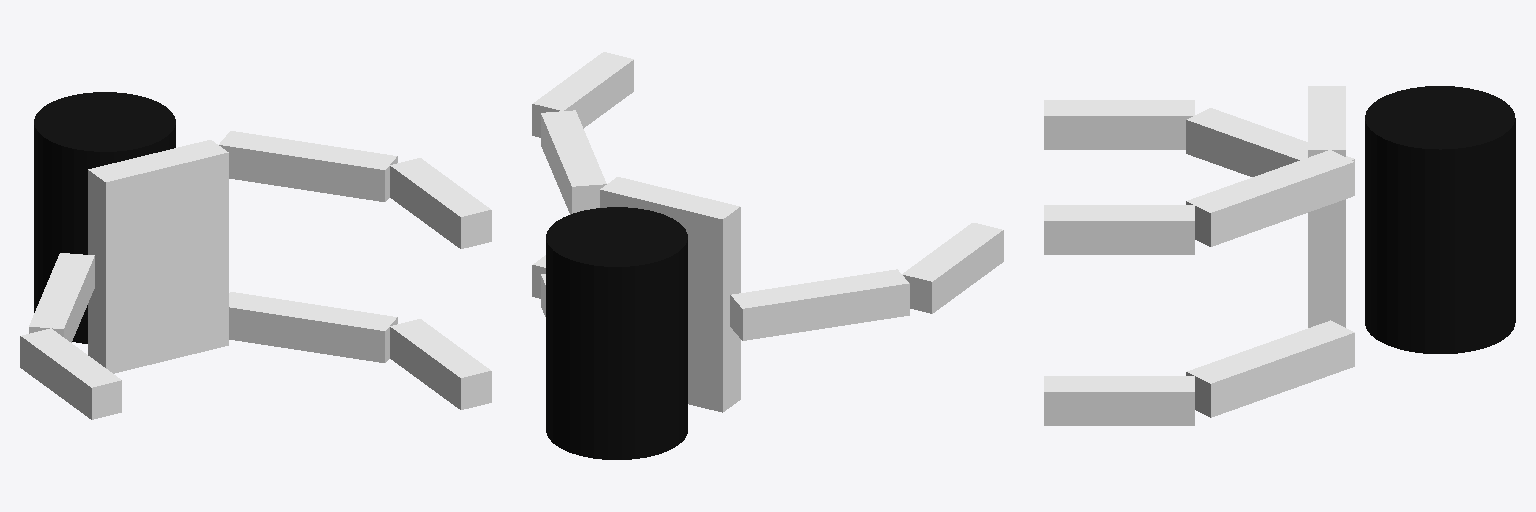
robot.urdf — test_ee_spread:
<?xml version="1.0"?>
<robot name="test_ee_spread">

  <link name="world"/>
    <joint name="virtualFixed" type="fixed">
    <parent link="world"/>
    <child link="motor"/>
  </joint>
  
  <link name="motor">
  <inertial>
    <mass value="1"/>
    <inertia ixx="100" ixy="0" ixz="0" iyy="100" iyz="0" izz="100" />
    <origin/>
  </inertial>
    <visual>
      <geometry>
        <cylinder length="0.6" radius=".2"/>
      </geometry>
      <material name="black">

      <color rgba=".1 .1 .1 1"/>
      </material>
    </visual>
  <collision>
    <origin xyz="0 0 0"/>
    <geometry>
      <cylinder length="0.6" radius=".2"/>
    </geometry>
    <contact_coefficients mu="0" kp="1000.0" kd="1.0"/>
  </collision>
  </link>

  <link name="base">
  <inertial>
    <mass value="1"/>
    <inertia ixx="100" ixy="0" ixz="0" iyy="100" iyz="0" izz="100" />
    <origin/>
  </inertial>
    <visual>
      <geometry>
        <box size="0.4 .1 .6"/>
      </geometry>
      <origin rpy="0 0 0" xyz="0 -0.15 0"/>
      <material name="white">
        <color rgba="1 1 1 1"/>
      </material>
    </visual>
  <collision>
      <origin rpy="0 0 0" xyz="0 -0.15 0"/>
    <geometry>
        <box size="0.4 .1 .6"/>
    </geometry>
    <contact_coefficients mu="0" kp="1000.0" kd="1.0"/>
  </collision>
  </link>

  <joint name="motor_to_base" type="fixed">
    <parent link="motor"/>
    <child link="base"/>
    <origin xyz="0 -0.15 0"/>
  </joint>

  <link name="virtual_left_for_spread">
  </link>
  
  <joint name="left_spread" type="revolute">
    <axis xyz="1 0 0"/>
    <limit effort="1000.0" lower="-0.3" upper="0.3" velocity="0.5"/>
    <parent link="base"/>
    <child link="virtual_left_for_spread"/>
    <origin xyz="0.1 0 0"/>
  </joint>
  

  <link name="left_finger">
  <inertial>
    <mass value="1"/>
    <inertia ixx="100" ixy="0" ixz="0" iyy="100" iyz="0" izz="100" />
    <origin/>
  </inertial>
    <visual>
      <geometry>
        <box size="0.1 .5 .1"/>
      </geometry>
      <origin rpy="0 0 -0.7" xyz="-0.4 -0.3 0"/>
      <material name="white">
        <color rgba="1 1 1 1"/>
      </material>
    </visual>
  <collision>
      <origin rpy="0 0 -0.7" xyz="-0.4 -0.3 0"/>
    <geometry>
        <box size="0.1 .5 .1"/>
    </geometry>
    <contact_coefficients mu="0" kp="1000.0" kd="1.0"/>
  </collision>
  </link>

  <joint name="base_to_left_finger" type="revolute">
    <axis xyz="0 0 1"/>
    <limit effort="1000.0" lower="0.0" upper="0.7" velocity="0.5"/>
    <parent link="virtual_left_for_spread"/>
    <child link="left_finger"/>
    <origin xyz="-0.1 0 0"/>
  </joint>
  
  <link name="virtual_right1_for_spread">
  </link>
  
  <joint name="right1_spread" type="revolute">
    <axis xyz="1 0 0"/>
    <limit effort="1000.0" lower="-0.25" upper="0.25" velocity="0.5"/>
    <parent link="base"/>
    <child link="virtual_right1_for_spread"/>
    <origin xyz="-0.1 0 0"/>
  </joint>

  <link name="right_finger1">
  <inertial>
    <mass value="1"/>
    <inertia ixx="100" ixy="0" ixz="0" iyy="100" iyz="0" izz="100" />
    <origin/>
  </inertial>
    <visual>
      <geometry>
        <box size="0.1 .5 .1"/>
      </geometry>
      <origin rpy="0 0 0.7" xyz="0.4 -0.3 0.25"/>
      <material name="white">
        <color rgba="1 1 1 1"/>
      </material>
    </visual>
  <collision>
      <origin rpy="0 0 0.7" xyz="0.4 -0.3 0.25"/>
    <geometry>
        <box size="0.1 .5 .1"/>
    </geometry>
    <contact_coefficients mu="0" kp="1000.0" kd="1.0"/>
  </collision>
  </link>

  <joint name="base_to_right_finger1" type="revolute">
    <axis xyz="0 0 1"/>
    <limit effort="1000.0" lower="-0.7" upper="0.0" velocity="0.5"/>
    <parent link="virtual_right1_for_spread"/>
    <child link="right_finger1"/>
    <origin xyz=".1 0 0"/>
  </joint>
  
  <link name="virtual_right2_for_spread">
  </link>
  
  <joint name="right2_spread" type="revolute">
    <axis xyz="1 0 0"/>
    <limit effort="1000.0" lower="-0.25" upper="0.25" velocity="0.5"/>
    <parent link="base"/>
    <child link="virtual_right2_for_spread"/>
    <origin xyz="-0.1 0 0"/>
  </joint>

  <link name="right_finger2">
  <inertial>
    <mass value="1"/>
    <inertia ixx="100" ixy="0" ixz="0" iyy="100" iyz="0" izz="100" />
    <origin/>
  </inertial>
    <visual>
      <geometry>
        <box size="0.1 .5 .1"/>
      </geometry>
      <origin rpy="0 0 0.7" xyz="0.4 -0.3 -0.25"/>
      <material name="white">
        <color rgba="1 1 1 1"/>
      </material>
    </visual>
  <collision>
      <origin rpy="0 0 0.7" xyz="0.4 -0.3 -0.25"/>
    <geometry>
        <box size="0.1 .5 .1"/>
    </geometry>
    <contact_coefficients mu="0" kp="1000.0" kd="1.0"/>
  </collision>
  </link>

  <joint name="base_to_right_finger2" type="revolute">
    <axis xyz="0 0 1"/>
    <limit effort="1000.0" lower="-0.7" upper="0.0" velocity="0.5"/>
    <parent link="virtual_right2_for_spread"/>
    <child link="right_finger2"/>
    <origin xyz=".1 0 0"/>
  </joint>

  <link name="left_fingertip">
  <inertial>
    <mass value="1"/>
    <inertia ixx="100" ixy="0" ixz="0" iyy="100" iyz="0" izz="100" />
    <origin/>
  </inertial>
    <visual>
      <geometry>
        <box size="0.1 .4 .1"/>
      </geometry>
      <origin rpy="0 0 0" xyz="0 -0.2 0"/>
      <material name="white">
        <color rgba="1 1 1 1"/>
      </material>
    </visual>
  <collision>
      <origin rpy="0 0 0" xyz="0 -0.2 0"/>
    <geometry>
        <box size="0.1 .4 .1"/>
    </geometry>
    <contact_coefficients mu="0" kp="1000.0" kd="1.0"/>
  </collision>
  </link>

  <joint name="left_finger_to_left_fingertip" type="revolute">
    <axis xyz="0 0 1"/>
    <limit effort="1.0" lower="0" upper="0.9" velocity="0.5"/>
    <parent link="left_finger"/>
    <child link="left_fingertip"/>
    <origin xyz="-0.6 -0.5 0"/>
  </joint>

  <link name="right_fingertip1">
  <inertial>
    <mass value="1"/>
    <inertia ixx="100" ixy="0" ixz="0" iyy="100" iyz="0" izz="100" />
    <origin/>
  </inertial>
    <visual>
      <geometry>
        <box size="0.1 .4 .1"/>
      </geometry>
      <origin rpy="0 0 0" xyz="0 -0.2 0"/>
      <material name="white">
        <color rgba="1 1 1 1"/>
      </material>
    </visual>
  <collision>
      <origin rpy="0 0 0" xyz="0 -0.2 0"/>
    <geometry>
        <box size="0.1 .4 .1"/>
    </geometry>
    <contact_coefficients mu="0" kp="1000.0" kd="1.0"/>
  </collision>
  </link>

  <joint name="right_finger1_to_right_fingertip1" type="revolute">
    <axis xyz="0 0 1"/>
    <limit effort="1.0" lower="-0.9" upper="0.0" velocity="0.5"/>
    <parent link="right_finger1"/>
    <child link="right_fingertip1"/>
    <origin xyz="0.6 -0.5 0.25"/>
  </joint>

  <link name="right_fingertip2">
  <inertial>
    <mass value="1"/>
    <inertia ixx="100" ixy="0" ixz="0" iyy="100" iyz="0" izz="100" />
    <origin/>
  </inertial>
    <visual>
      <geometry>
        <box size="0.1 .4 .1"/>
      </geometry>
      <origin rpy="0 0 0" xyz="0 -0.2 0"/>
      <material name="white">
        <color rgba="1 1 1 1"/>
      </material>
    </visual>
  <collision>
     <origin rpy="0 0 0" xyz="0 -0.2 0"/>
    <geometry>
        <box size="0.1 .4 .1"/>
    </geometry>
    <contact_coefficients mu="0" kp="1000.0" kd="1.0"/>
  </collision>
  </link>

  <joint name="right_finger2_to_right_fingertip2" type="revolute">
    <axis xyz="0 0 1"/>
    <limit effort="1.0" lower="-0.9" upper="0.0" velocity="0.5"/>
    <parent link="right_finger2"/>
    <child link="right_fingertip2"/>
    <origin xyz="0.6 -0.5 -0.25"/>
  </joint>
  
    <gazebo>
    <plugin name="test_ee_controller" filename="libRoseePlugin.so">
    </plugin>
  </gazebo>

</robot>

--- Facts derived from the render (not from the file) ---
3 views of the same robot in one strip: view 1: azimuth 30°, elevation 25°; view 2: azimuth 150°, elevation 25°; view 3: azimuth 270°, elevation 25° (orthographic).
Model test_ee_spread with 12 links and 11 joints (9 revolute, 2 fixed), rooted at world, posed every joint at zero.
Visible links, largest first — view 1: base, motor, right_finger1, right_finger2, left_fingertip, right_fingertip1, right_fingertip2, left_finger; view 2: motor, base, left_finger, left_fingertip, right_finger1, right_fingertip1; view 3: motor, right_finger2, right_finger1, right_fingertip1, right_fingertip2, left_fingertip, base, left_finger.
Boxes of the visible links, x1,y1,x2,y2 form: base: [88, 140, 228, 373]; motor: [34, 92, 175, 343]; right_finger1: [219, 131, 397, 201]; right_finger2: [229, 292, 397, 362]; left_fingertip: [20, 328, 121, 419]; right_fingertip1: [390, 158, 491, 248]; right_fingertip2: [390, 319, 491, 409]; left_finger: [29, 253, 94, 342]; motor: [546, 207, 687, 459]; base: [600, 177, 740, 412]; left_finger: [730, 269, 909, 340]; left_fingertip: [902, 223, 1003, 313]; right_finger1: [541, 110, 606, 214]; right_fingertip1: [532, 52, 633, 137]; motor: [1365, 86, 1515, 353]; right_finger2: [1186, 320, 1354, 417]; right_finger1: [1186, 150, 1354, 246]; right_fingertip1: [1044, 205, 1194, 254]; right_fingertip2: [1044, 376, 1194, 425]; left_fingertip: [1044, 100, 1194, 149]; base: [1308, 86, 1345, 327]; left_finger: [1186, 108, 1354, 176].
Size in the robot's own frame: 1.3 by 1.25 by 0.6 metres.
Geometry: primitives only (box / cylinder / sphere), no mesh files.